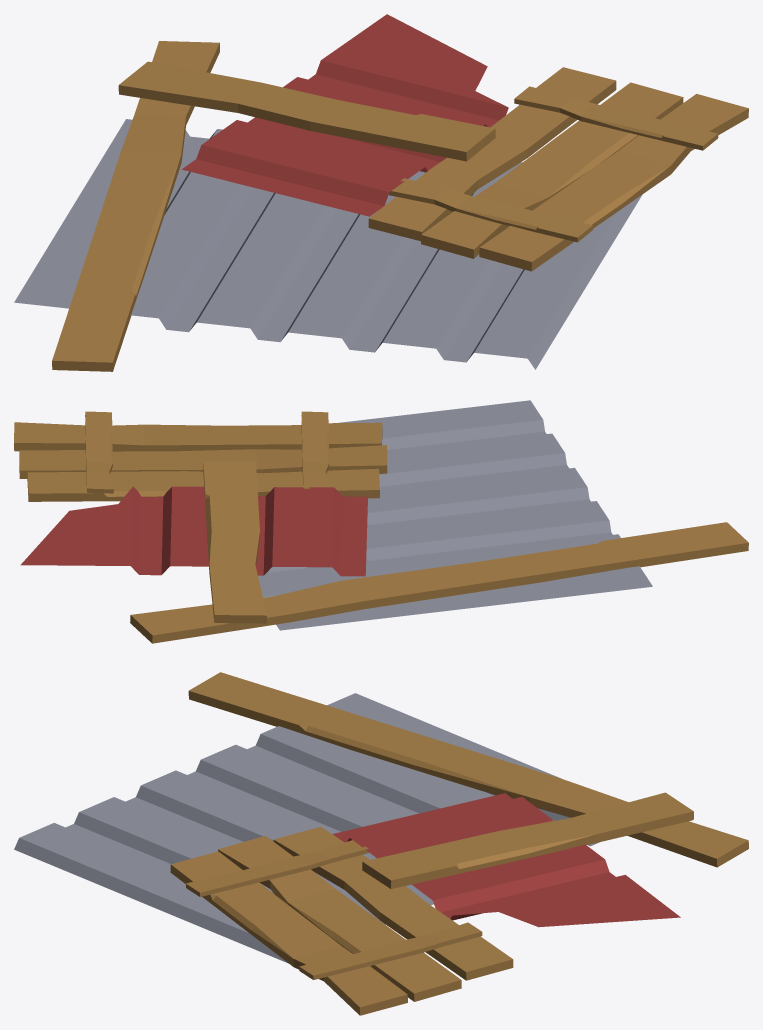
Rendered from Debris_Obs.fbx.
The picture shows the model from 3 angles, top to bottom: view 1: azimuth 30°, elevation 25°; view 2: azimuth 150°, elevation 25°; view 3: azimuth 270°, elevation 25°; orthographic projection. The views are drawn at different scales.
Parts seen in each view (by area): view 1: Debris_Pile.001; view 2: Debris_Pile.001; view 3: Debris_Pile.001.
Part boxes in pixels (x1,y1,x2,y2): Debris_Pile.001: (14, 14, 748, 371); Debris_Pile.001: (14, 400, 748, 643); Debris_Pile.001: (14, 672, 748, 1015).
Bounding box in the file's own units: 88.2 × 5.23 × 80.15.
